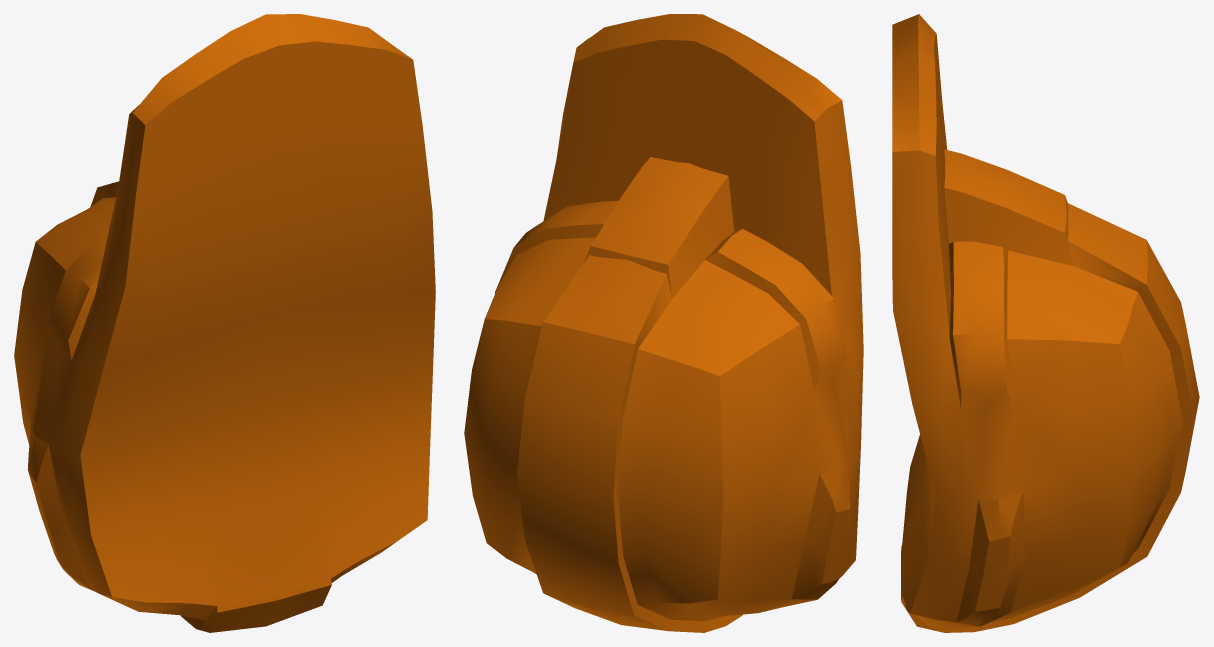
The model's file is hard hat.obj.
The picture shows the model from 3 angles, left to right: view 1: azimuth 30°, elevation 25°; view 2: azimuth 150°, elevation 25°; view 3: azimuth 270°, elevation 25°; orthographic projection. The views are drawn at different scales.
Visible parts, largest first — view 1: hard_hat.010_hard_hat; view 2: hard_hat.010_hard_hat; view 3: hard_hat.010_hard_hat.
Part boxes in pixels (bbox=[...]): hard_hat.010_hard_hat: bbox=[14, 14, 435, 632]; hard_hat.010_hard_hat: bbox=[464, 14, 863, 632]; hard_hat.010_hard_hat: bbox=[892, 14, 1199, 632].
Bounding box in the file's own units: 58.15 × 89.45 × 42.24.
